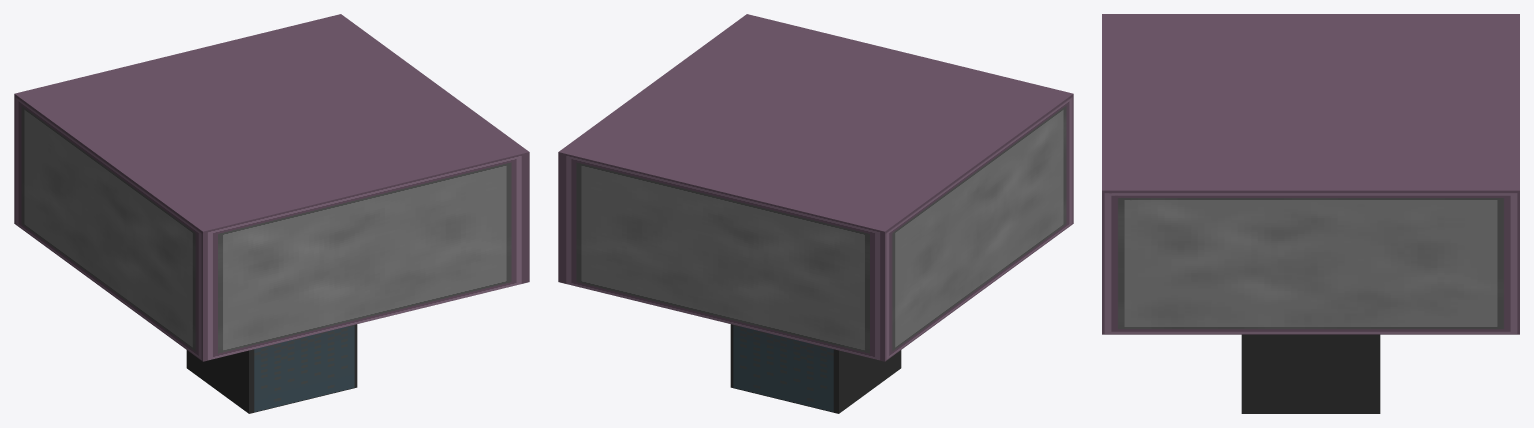
The model's file is CameraBody.glb.
The picture shows the model from 3 angles, left to right: view 1: azimuth 30°, elevation 25°; view 2: azimuth 150°, elevation 25°; view 3: azimuth 270°, elevation 25°; orthographic projection. The views are drawn at different scales.
Parts seen in each view (by area): view 1: Cube; view 2: Cube; view 3: Cube.
Boxes of the visible parts, x1,y1,x2,y2 form: Cube: [14, 14, 529, 413]; Cube: [558, 14, 1073, 413]; Cube: [1102, 14, 1519, 413].
Bounding box in the file's own units: 2 × 1.49 × 2.
2 materials, 2 textured.
